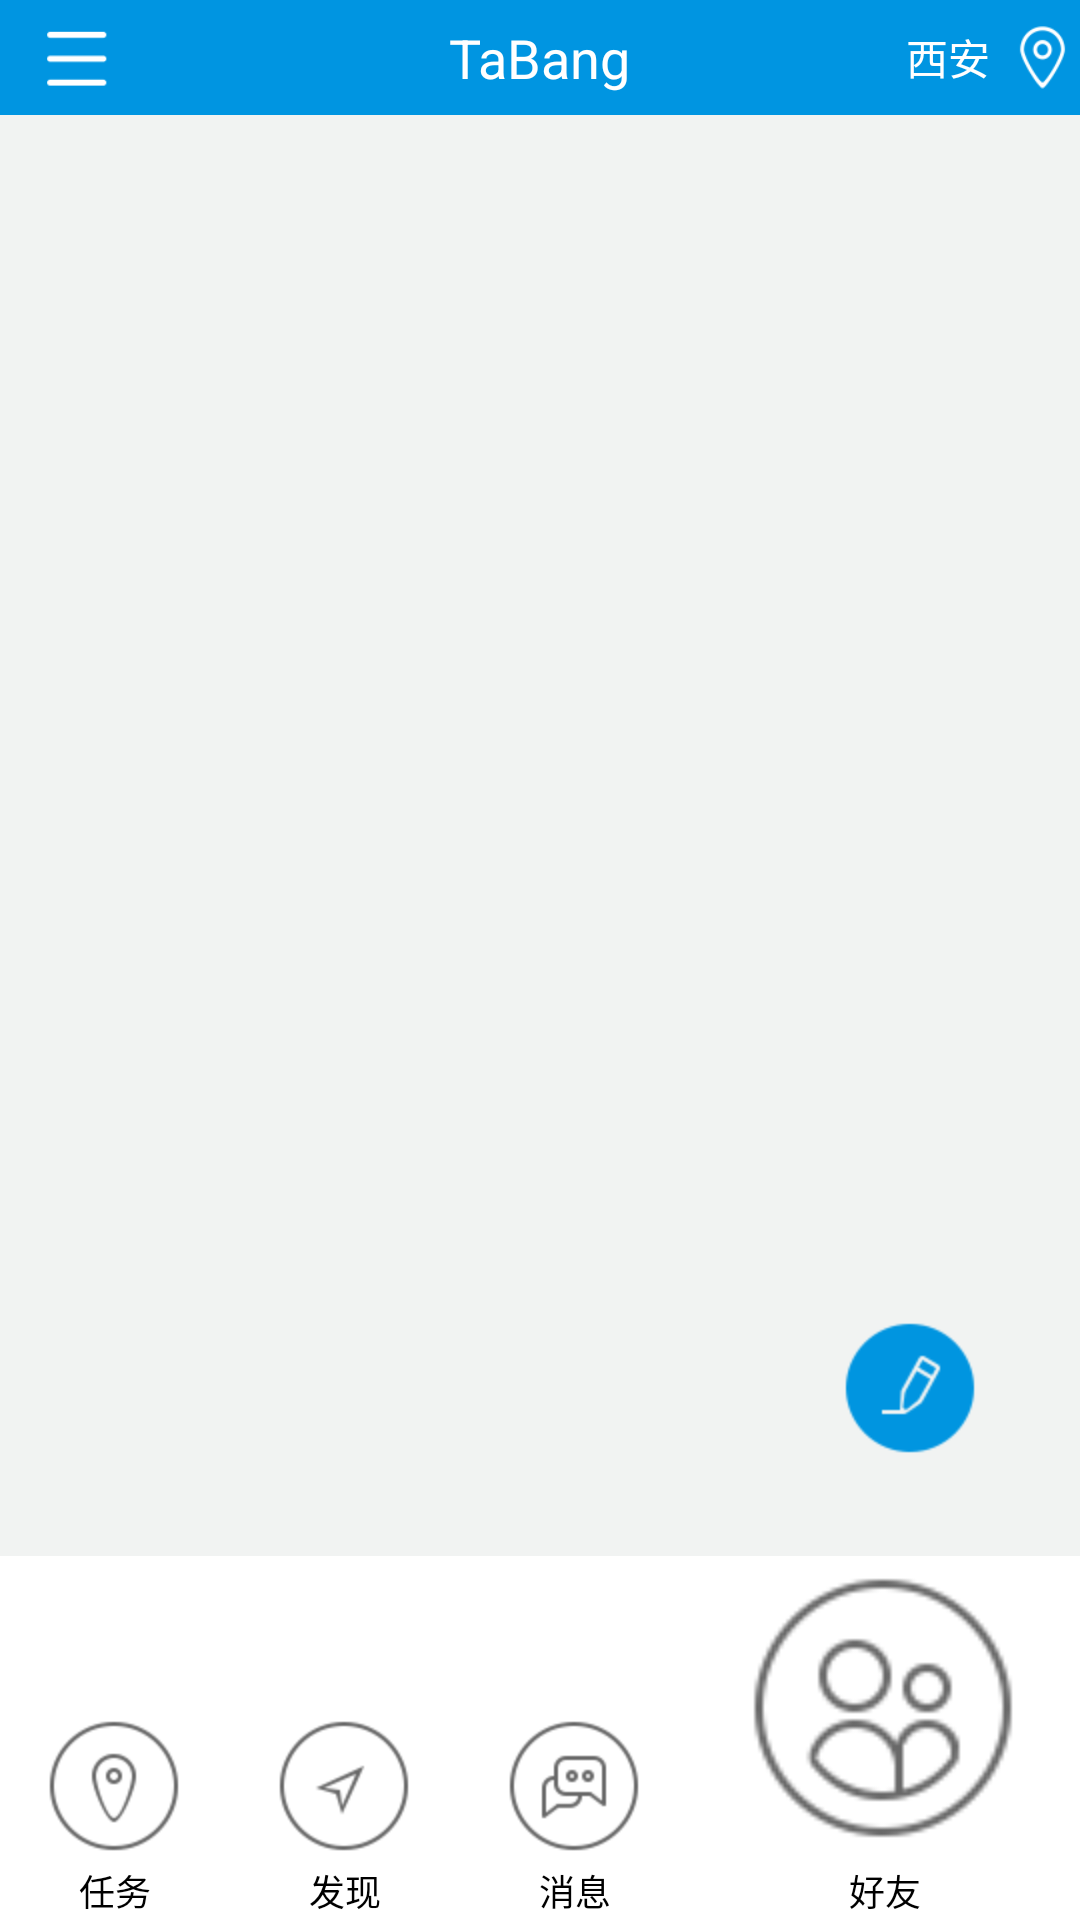

Named icons in this screenshot (1080 x 1920) and their bounding boxes, (x1, y1, x2, y2):
dingwei: (1020, 26, 1065, 89)
left model: (47, 31, 107, 86)
sendmission: (845, 1323, 975, 1453)
